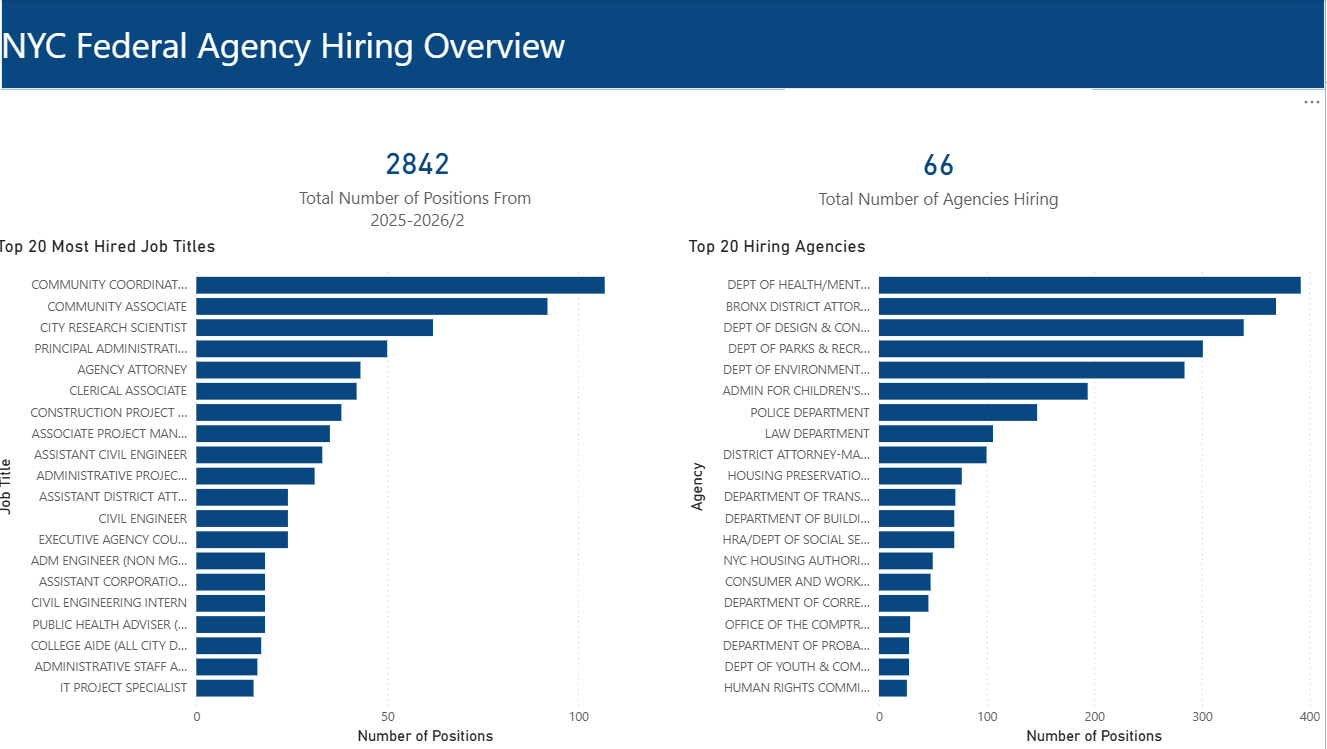

The dashboard page shown, as its layout file describes it:
{"tool":"powerbi","page":{"name":"Hiring Overview","canvas":[1280,720],"ordinal":0},"visuals":[{"type":"card","fields":{"Values":["Sum(nyc_jobs_cleaned.# Of Positions)"]},"box":[238.9,85.4,340.6,162.2],"z":0},{"type":"shape","box":[9.7,0,1270.3,86.6],"z":1000},{"type":"card","fields":{"Values":["Count(nyc_jobs_cleaned.Agency)"]},"box":[761.9,86.4,294.6,161.2],"z":2000},{"type":"clusteredBarChart","title":"Top 20 Hiring Agencies","fields":{"Category":["top_agency_hiring.Agency"],"Y":["Sum(top_agency_hiring.# Of Positions)"]},"box":[664,226.4,616,493.2],"z":3000},{"type":"clusteredBarChart","title":"Top 20 Most Hired Job Titles","fields":{"Category":["top_job_titles.Civil Service Title"],"Y":["Sum(top_job_titles.count)"]},"box":[0,226.4,651.5,493.2],"z":4000}]}

Visuals, with their boxes in screenshot pixels (x1, y1, x2, y2), scaled from the page's 1280x720 canvas onto the 1327x749 screenshot:
card - Sum(nyc_jobs_cleaned.# Of Positions): bbox=[248, 89, 601, 258]
shape: bbox=[10, 0, 1326, 90]
card - Count(nyc_jobs_cleaned.Agency): bbox=[790, 90, 1095, 258]
"Top 20 Hiring Agencies" clusteredBarChart: bbox=[688, 236, 1326, 748]
"Top 20 Most Hired Job Titles" clusteredBarChart: bbox=[0, 236, 675, 748]
